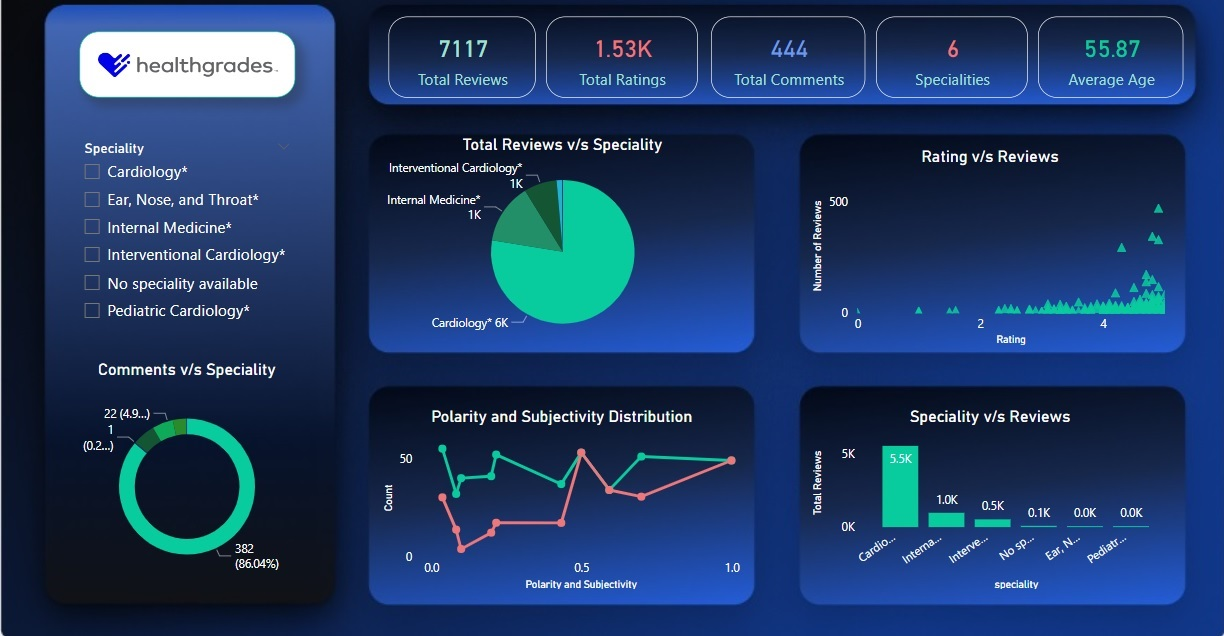

The dashboard page shown, as its layout file describes it:
{"tool":"powerbi","page":{"name":"Dashboard","canvas":[1280,720],"ordinal":1},"visuals":[{"type":"scatterChart","title":"Rating v/s Reviews","fields":{"Y":["Sheet1.Number of Reviews"],"X":["Sheet1.Rating"]},"box":[843.4,209.3,381.1,210.8],"z":0},{"type":"pieChart","title":"Total Reviews v/s Speciality","fields":{"Category":["Sheet1.speciality"],"Y":["Sum(Sheet1.Number of Reviews)"]},"box":[390.5,196.8,396.7,223.3],"z":1000},{"type":"lineChart","title":"Polarity and Subjectivity Distribution","fields":{"Category":["Sheet1.Polarity"],"Y":["CountNonNull(Sheet1.Polarity)","Sum(Sheet1.Subjectivity)"]},"box":[396.7,479.5,382.6,195.2],"z":2000},{"type":"columnChart","title":"Speciality v/s Reviews","fields":{"Y":["Sum(Sheet1.Number of Reviews)"],"Category":["Sheet1.speciality"]},"box":[843.4,479.5,381.1,195.2],"z":3000},{"type":"card","fields":{"Values":["Sum(Sheet1.Number of Reviews)"]},"box":[407.6,73.4,153.1,84.3],"z":4000},{"type":"card","fields":{"Values":["Sum(Sheet1.Rating)"]},"box":[571.6,73.4,157.7,84.3],"z":5000},{"type":"card","fields":{"Values":["CountNonNull(Sheet1.Patient Comments)"]},"box":[743.4,73.4,160.9,84.3],"z":6000},{"type":"card","fields":{"Values":["Count(Sheet1.speciality)"]},"box":[915.2,73.4,157.7,84.3],"z":7000},{"type":"card","fields":{"Values":["Avg(Sheet1.Age)"]},"box":[1083.9,73.4,151.5,84.3],"z":8000},{"type":"slicer","fields":{"Values":["Sheet1.speciality"]},"box":[78.1,196.8,239,217.1],"z":9000},{"type":"donutChart","title":"Comments v/s Speciality","fields":{"Series":["Sheet1.speciality"],"Y":["CountNonNull(Sheet1.Patient Comments)"]},"box":[78.1,431.1,239,243.6],"z":10000},{"type":"image","box":[85.9,89,224.9,68.7],"z":11000}]}

Visuals, with their boxes on the page's 1280x720 design canvas (x1, y1, x2, y2). These are canvas units, not pixel positions in the 1224x636 screenshot, which may show the page scaled, cropped or inside an application window:
"Rating v/s Reviews" scatterChart: 843, 209, 1224, 420
"Total Reviews v/s Speciality" pieChart: 390, 197, 787, 420
"Polarity and Subjectivity Distribution" lineChart: 397, 480, 779, 675
"Speciality v/s Reviews" columnChart: 843, 480, 1224, 675
card - Sum(Sheet1.Number of Reviews): 408, 73, 561, 158
card - Sum(Sheet1.Rating): 572, 73, 729, 158
card - CountNonNull(Sheet1.Patient Comments): 743, 73, 904, 158
card - Count(Sheet1.speciality): 915, 73, 1073, 158
card - Avg(Sheet1.Age): 1084, 73, 1235, 158
slicer - Sheet1.speciality: 78, 197, 317, 414
"Comments v/s Speciality" donutChart: 78, 431, 317, 675
image: 86, 89, 311, 158
